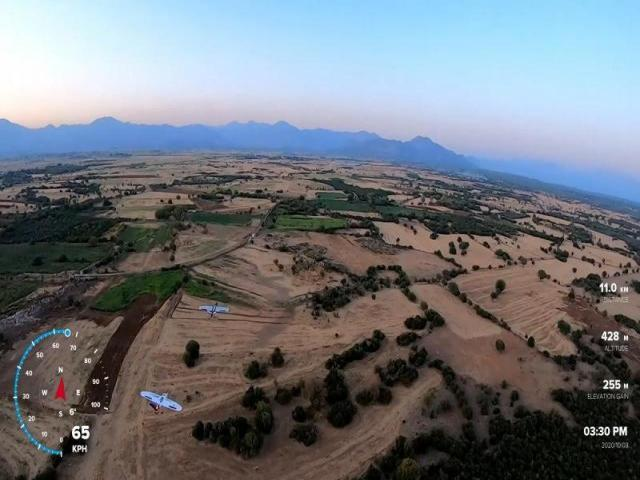hedef: (134, 382, 184, 424), (196, 299, 238, 322)
